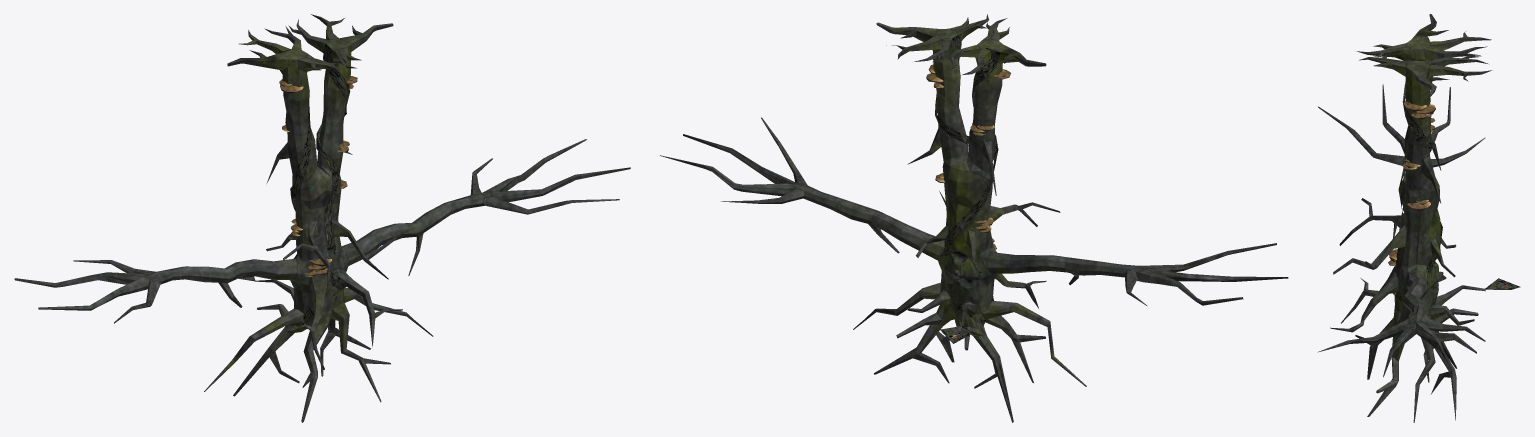
The model's file is tree_ent.glb.
3 views of the same model, side by side, from view 1: azimuth 30°, elevation 25°; view 2: azimuth 150°, elevation 25°; view 3: azimuth 270°, elevation 25° (orthographic). The views are drawn at different scales.
Visible parts, largest first — view 1: tree_ent.obj; view 2: tree_ent.obj; view 3: tree_ent.obj.
Part boxes in pixels (<box>): tree_ent.obj: <box>14,14,630,422</box>; tree_ent.obj: <box>660,14,1288,422</box>; tree_ent.obj: <box>1318,14,1520,422</box>.
Size of the model in its own units: 0.9995 by 0.5592 by 0.2992.
Materials: 1 (1 with a texture image).
